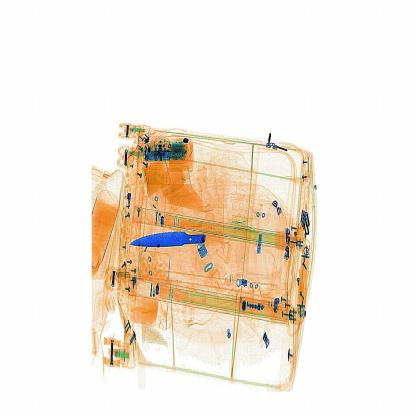wrench: (129, 226, 225, 254)
